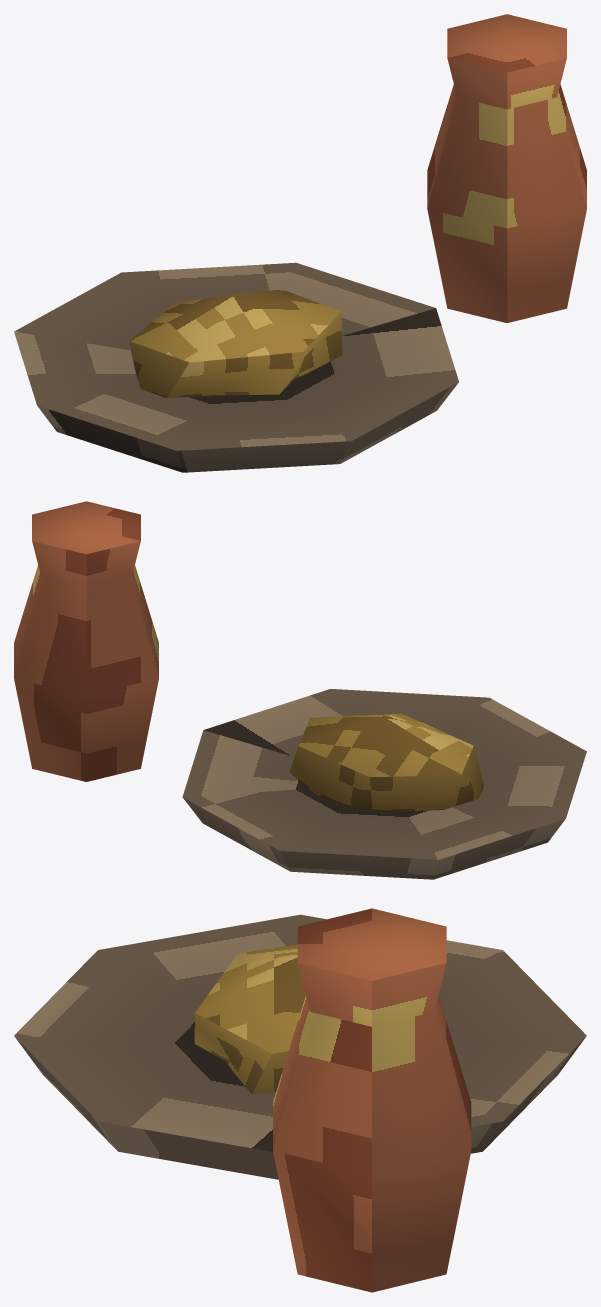
The model's file is mprop.tableware.glb.
The picture shows the model from 3 angles, top to bottom: view 1: azimuth 30°, elevation 25°; view 2: azimuth 150°, elevation 25°; view 3: azimuth 270°, elevation 25°; orthographic projection. The views are drawn at different scales.
Visible parts, largest first — view 1: kit_ware, kit_food; view 2: kit_ware, kit_food; view 3: kit_ware, kit_food.
Part boxes in pixels (x1,y1,x2,y2): kit_ware: [14, 14, 586, 472]; kit_food: [129, 289, 342, 397]; kit_ware: [14, 501, 586, 879]; kit_food: [289, 713, 483, 811]; kit_ware: [14, 908, 586, 1292]; kit_food: [194, 944, 305, 1094].
Bounding box in the file's own units: 0.58 × 0.27 × 0.4.
3 materials, 3 textured.
